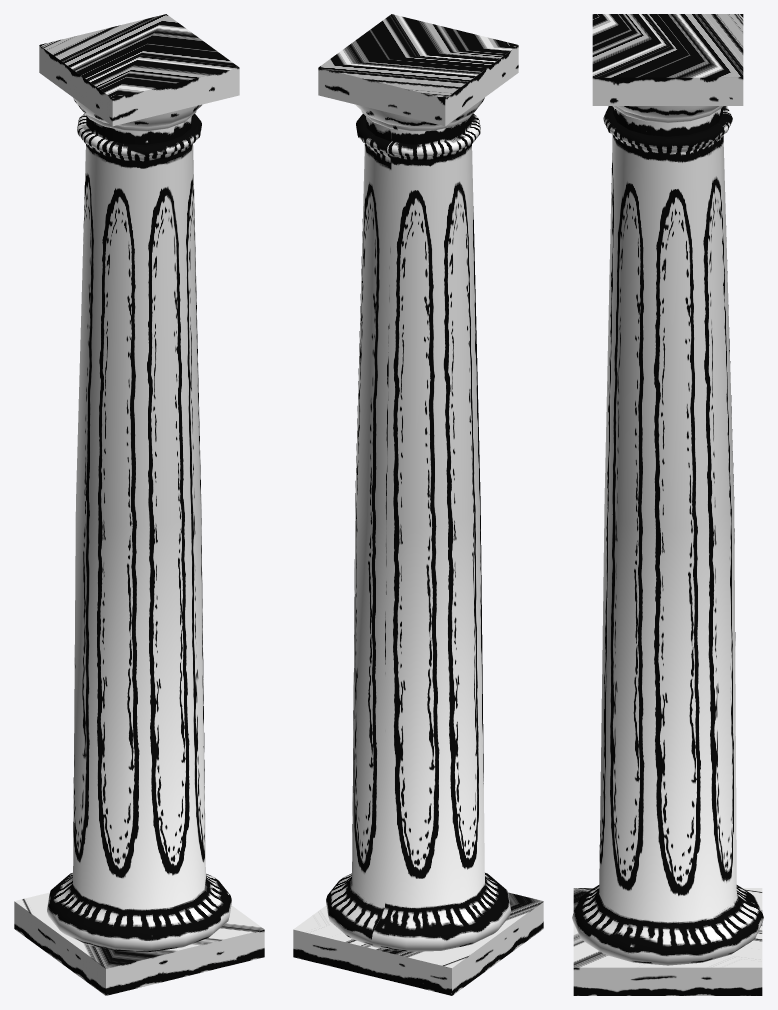
The model's file is column.obj.
3 renders of one model, left to right at view 1: azimuth 30°, elevation 25°; view 2: azimuth 150°, elevation 25°; view 3: azimuth 270°, elevation 25°, orthographic. The views are drawn at different scales.
Visible parts, largest first — view 1: column; view 2: column; view 3: column.
Part boxes in pixels (box(x1,y1,x2,y2)): column: box(14, 14, 264, 995); column: box(293, 14, 543, 995); column: box(572, 14, 763, 995).
Size of the model in its own units: 0.7643 by 4 by 0.7643.
